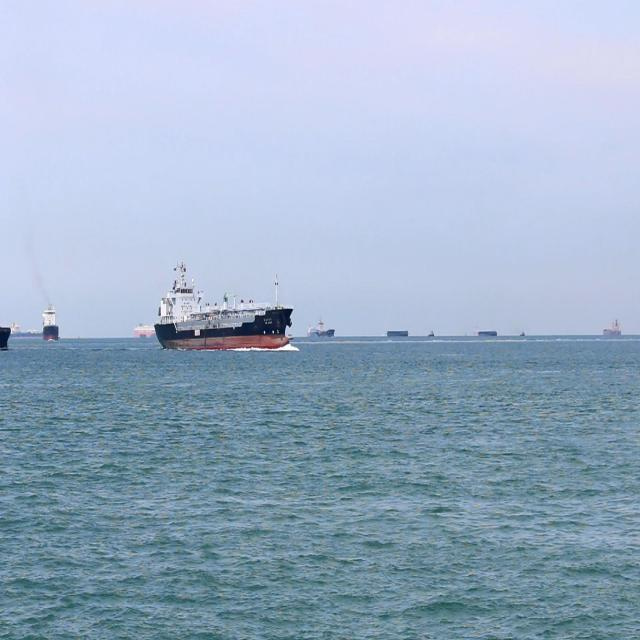CIV_Ship: (154, 256, 296, 354), (43, 304, 61, 343), (8, 320, 43, 340), (306, 316, 336, 338), (601, 312, 625, 338)
